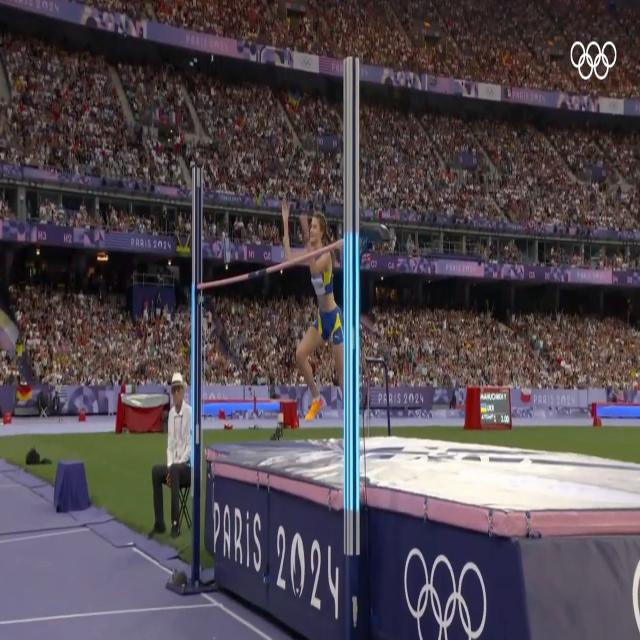land: (281, 198, 344, 423)
